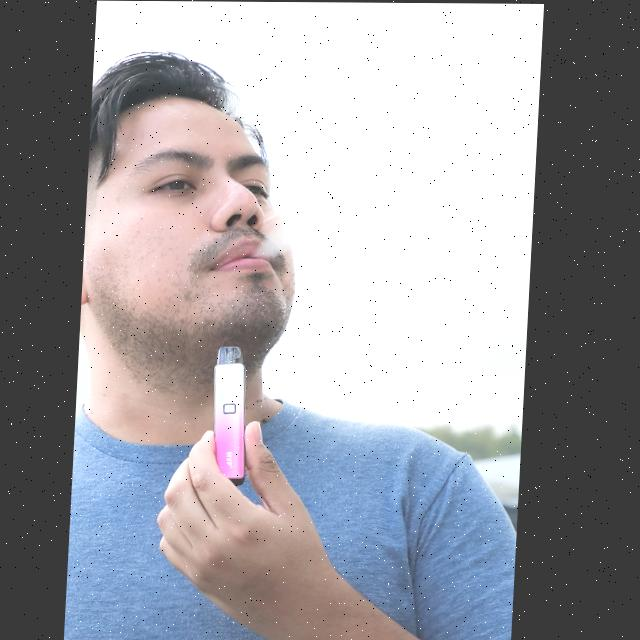vape: (211, 343, 255, 484)
